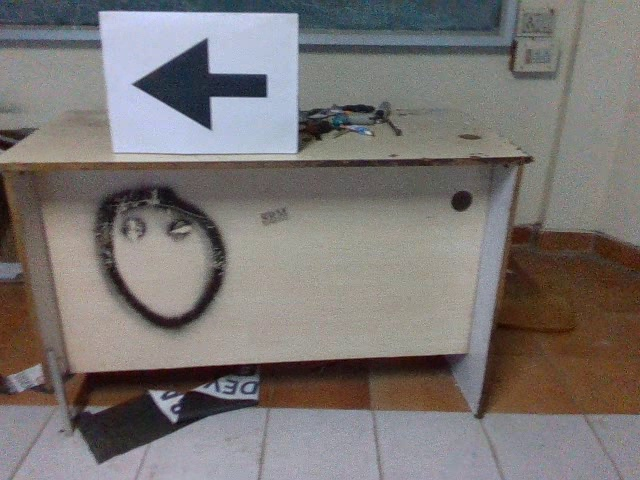Left: (124, 29, 275, 137)
